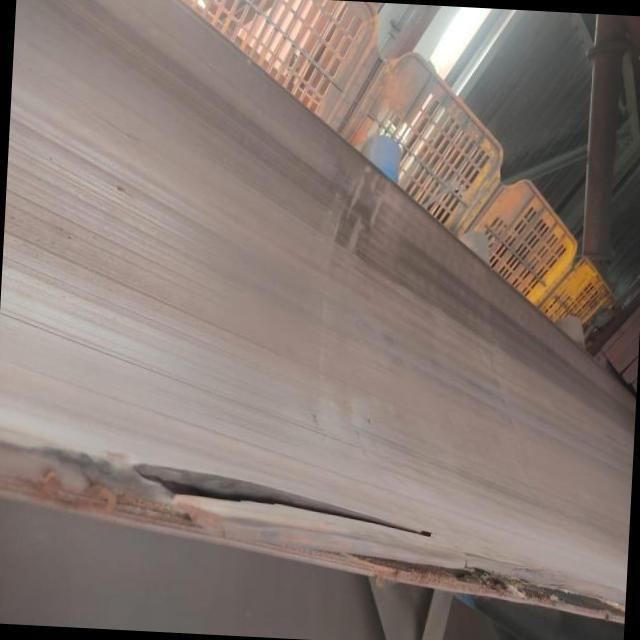Tear: (134, 448, 436, 546)
